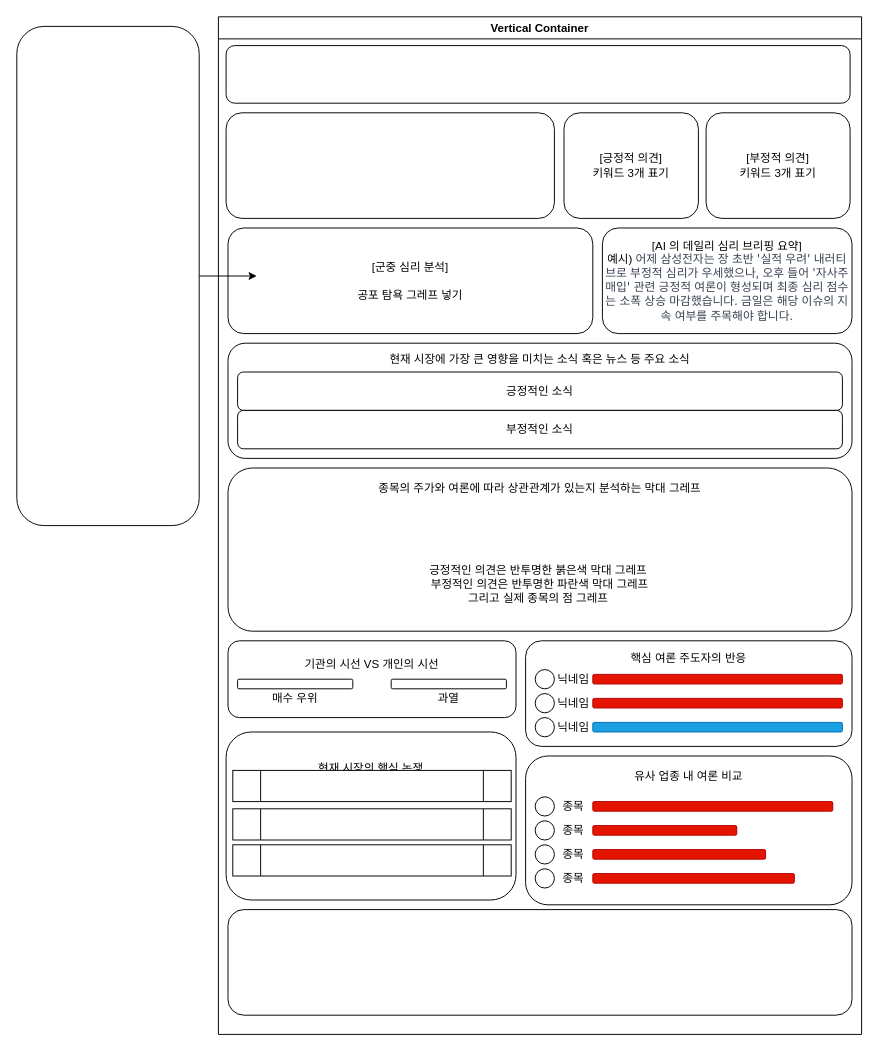
Some shapes in this 878 by 1051 pixel diagram are drawn without their labels. The shapes that lost their labels are listed below. From the top down, each one's centre as x and y in pixels, then its label:
At (x=537, y=74): "AI 의 한줄 종목 의견".
At (x=389, y=165): "[실시간 여론 점수] 반원 그래프로 점수에따라 그림으로 표기".
At (x=107, y=275): "삼성전자 엘지 네이버 등등 팝업으로 왼쪽에서 종목 종류 표시".
At (x=539, y=962): "실시간 토론 샘플".
